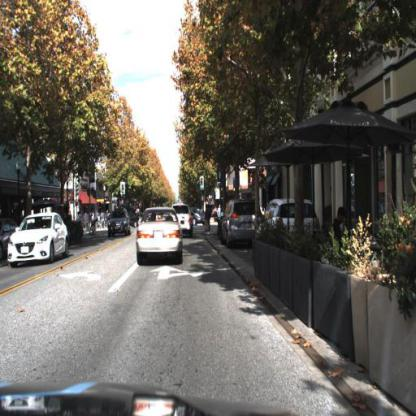car: (7, 210, 71, 273), (134, 203, 184, 267), (261, 197, 323, 232), (221, 199, 257, 245), (107, 207, 133, 243), (108, 206, 131, 240), (177, 200, 195, 240)
pedestrian: (204, 205, 212, 234)
trafficLight-Green: (198, 176, 206, 194), (198, 175, 206, 191), (120, 180, 127, 198)
